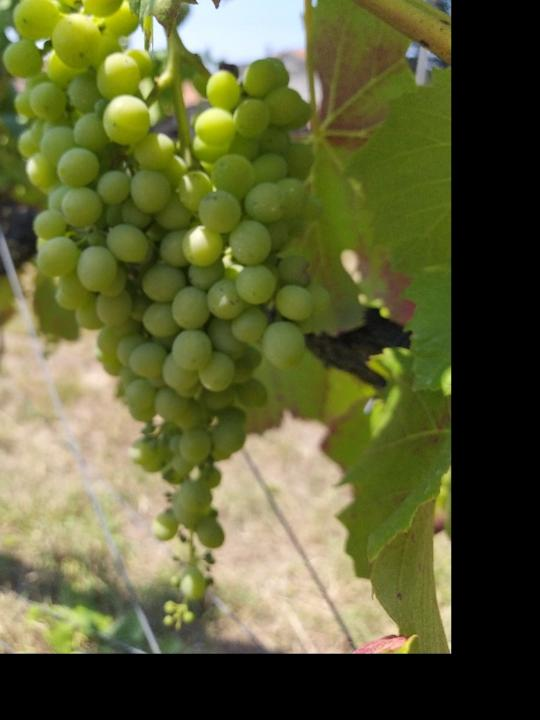grape: (2, 0, 314, 637)
